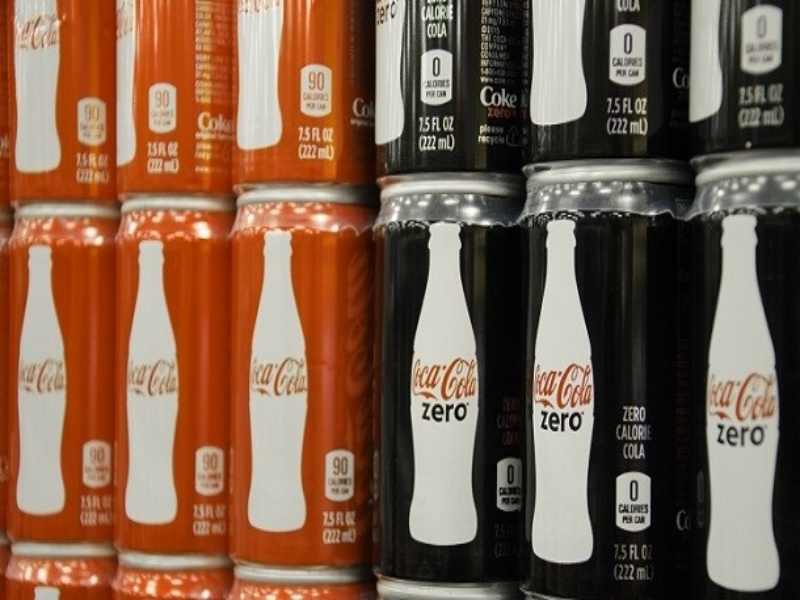Can: (478, 131, 717, 600), (339, 159, 551, 595), (196, 167, 393, 599), (81, 183, 258, 600), (2, 207, 131, 558)
